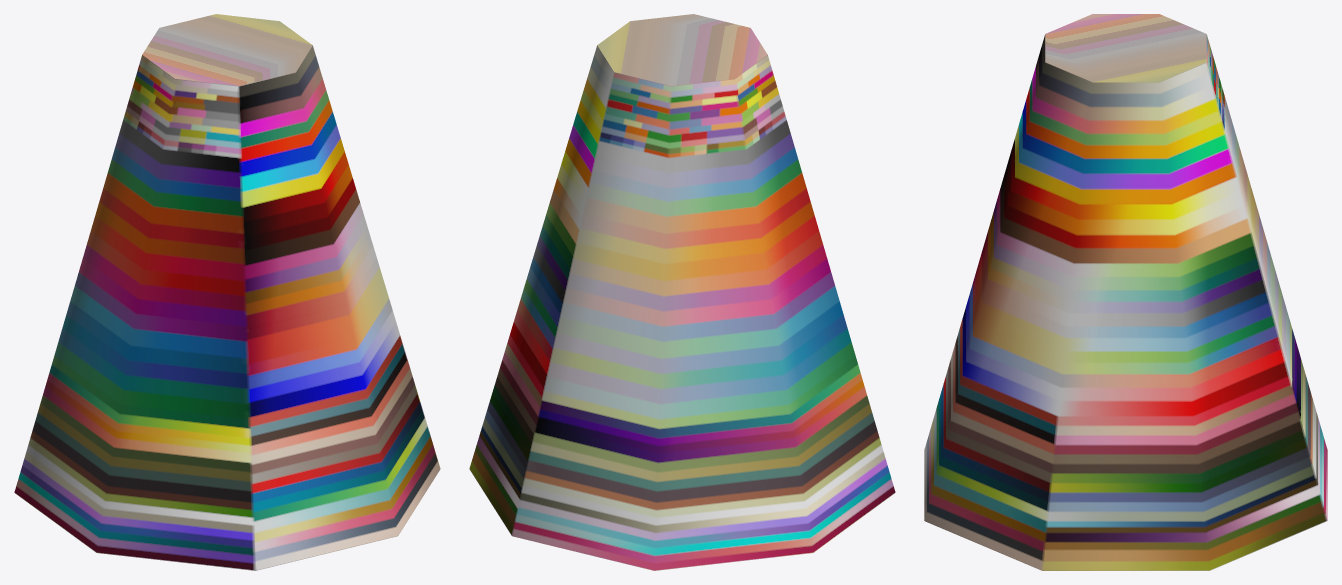
The model's file is CR_sci_Beaker_002_Collider.FBX.
3 renders of one model, left to right at view 1: azimuth 30°, elevation 25°; view 2: azimuth 150°, elevation 25°; view 3: azimuth 270°, elevation 25°, orthographic.
Visible parts, largest first — view 1: CR_sci_Beaker_002_Collider; view 2: CR_sci_Beaker_002_Collider; view 3: CR_sci_Beaker_002_Collider.
Part boxes in pixels (left/top/right/bottom): CR_sci_Beaker_002_Collider: left=14, top=14, right=440, bottom=570; CR_sci_Beaker_002_Collider: left=469, top=14, right=895, bottom=570; CR_sci_Beaker_002_Collider: left=924, top=14, right=1327, bottom=570.
Size of the model in its own units: 10.97 by 13.13 by 10.97.
